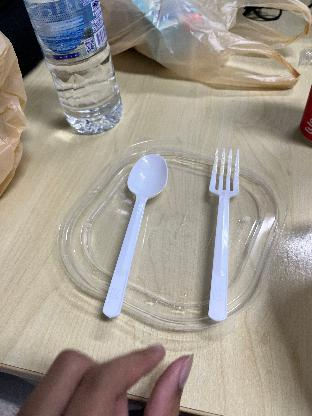Others: (86, 150, 174, 330), (192, 142, 250, 328)
Plastic Bottle: (22, 0, 126, 136)
